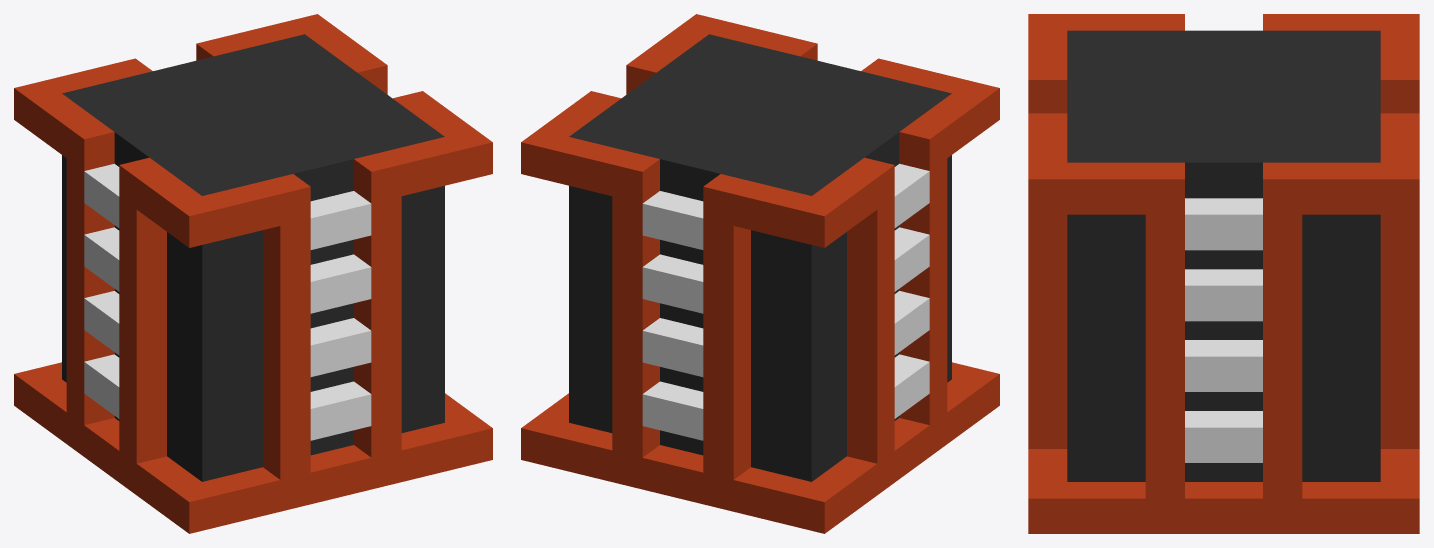
Rendered from BulletTurretBase.obj.
3 views of the same model, side by side, from view 1: azimuth 30°, elevation 25°; view 2: azimuth 150°, elevation 25°; view 3: azimuth 270°, elevation 25° (orthographic). The views are drawn at different scales.
Bounding box in the file's own units: 10 × 10 × 10.
1 material, 1 textured.
